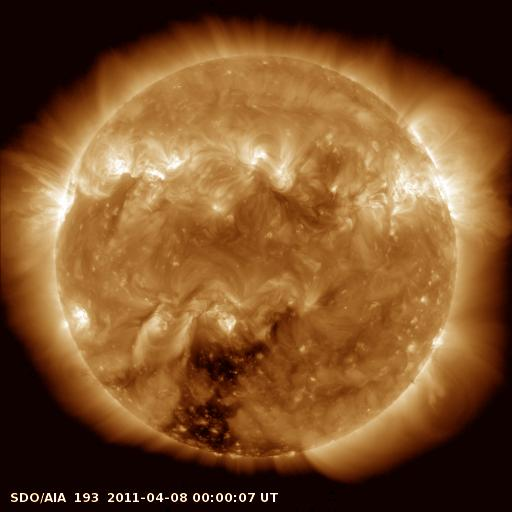coronal_hole: (158, 309, 288, 448)
